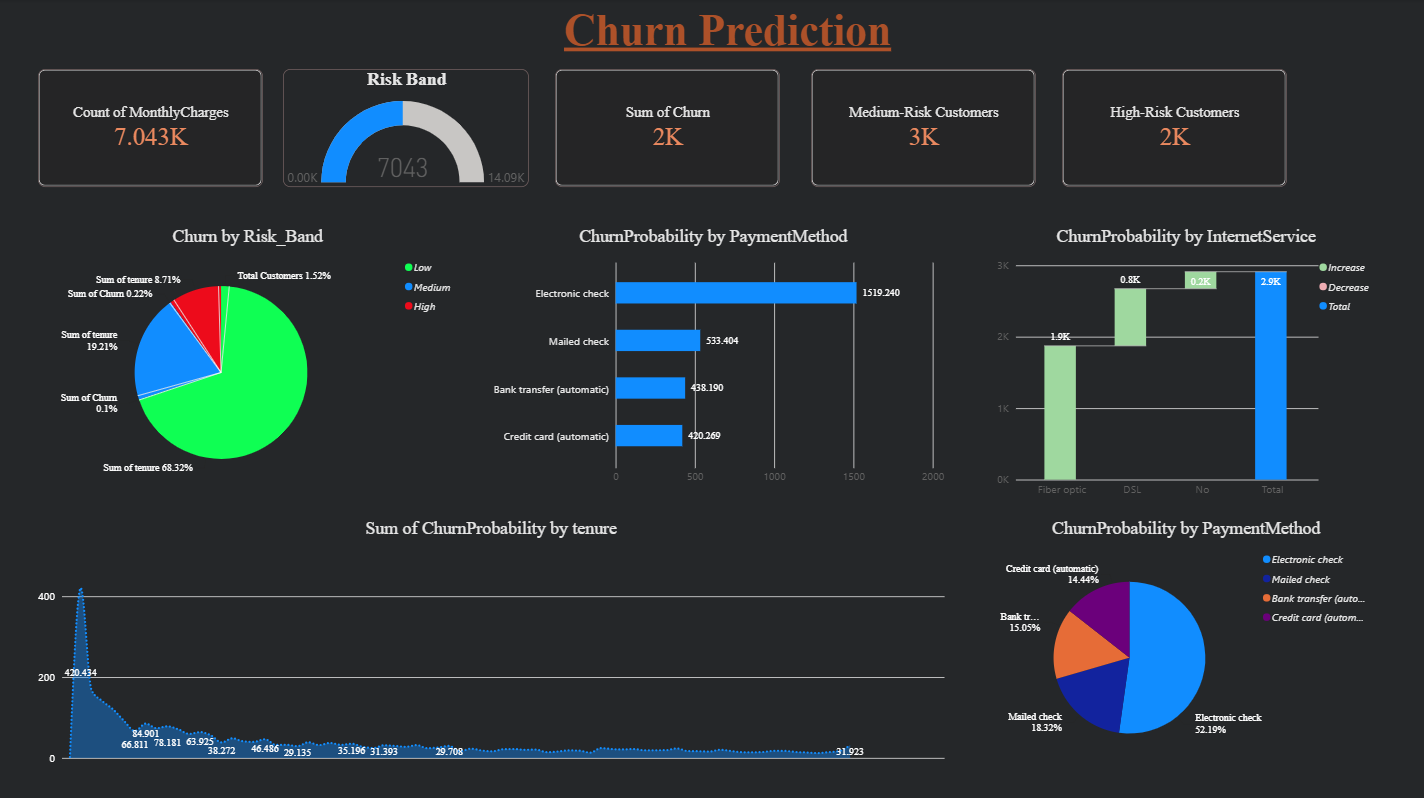

Layout of this report page (visuals, bound fields, positions):
{"tool":"powerbi","page":{"name":"Risk & Prediction","canvas":[1920,1080],"ordinal":3},"visuals":[{"type":"cardVisual","fields":{"Data":["CountNonNull(Telco_Churn.MonthlyCharges)"]},"box":[52.4,94.9,303,158.9],"z":0},{"type":"textbox","box":[760.4,9.9,991.2,66.5],"z":1000},{"type":"gauge","title":" Risk Band","fields":{"Y":["CountNonNull(Customer_Risk.Risk Band)"]},"box":[382.3,94.9,331.3,158.6],"z":2000},{"type":"cardVisual","fields":{"Data":["measure.High-Risk Customers"]},"box":[1431.5,94.9,303,158.9],"z":3000},{"type":"cardVisual","fields":{"Data":["measure.Medium-Risk Customers"]},"box":[1093.1,94.9,303,158.9],"z":4000},{"type":"cardVisual","fields":{"Data":["Sum(Telco_Churn.Churn)"]},"box":[749,94.9,303,158.9],"z":5000},{"type":"pieChart","title":"Churn by Risk_Band","fields":{"Category":["Customer_Risk.Risk Band"],"Y":["measure.Total Customers","Sum(Customer_Risk.tenure)","Sum(Customer_Risk.Churn)"]},"box":[52.4,305.8,565,352.6],"z":6000},{"type":"clusteredBarChart","title":"ChurnProbability by PaymentMethod","fields":{"Category":["Customer_Risk.PaymentMethod"],"Y":["Sum(Customer_Risk.ChurnProbability)"]},"box":[649.9,305.8,623,352.6],"z":7000},{"type":"stackedAreaChart","fields":{"Category":["Customer_Risk.tenure"],"Y":["Sum(Customer_Risk.ChurnProbability)"]},"box":[52.4,699.5,1220.5,334.2],"z":8000},{"type":"waterfallChart","title":"ChurnProbability by InternetService","fields":{"Category":["Telco_Churn.InternetService"],"Y":["Sum(Customer_Risk.ChurnProbability)"]},"box":[1343.7,305.8,509.7,369.6],"z":9000},{"type":"pieChart","title":"ChurnProbability by PaymentMethod","fields":{"Category":["Customer_Risk.PaymentMethod"],"Y":["Sum(Customer_Risk.ChurnProbability)"]},"box":[1343.7,699.5,509.7,334.2],"z":9001}]}

Visuals, with their boxes in screenshot pixels (x1, y1, x2, y2), scaled from the page's 1920x1080 canvas onto the 1424x798 screenshot:
cardVisual - CountNonNull(Telco_Churn.MonthlyCharges): x1=39, y1=70, x2=264, y2=188
textbox: x1=564, y1=7, x2=1299, y2=56
" Risk Band" gauge: x1=284, y1=70, x2=529, y2=187
cardVisual - measure.High-Risk Customers: x1=1062, y1=70, x2=1286, y2=188
cardVisual - measure.Medium-Risk Customers: x1=811, y1=70, x2=1035, y2=188
cardVisual - Sum(Telco_Churn.Churn): x1=556, y1=70, x2=780, y2=188
"Churn by Risk_Band" pieChart: x1=39, y1=226, x2=458, y2=486
"ChurnProbability by PaymentMethod" clusteredBarChart: x1=482, y1=226, x2=944, y2=486
stackedAreaChart - Customer_Risk.tenure x Sum(Customer_Risk.ChurnProbability): x1=39, y1=517, x2=944, y2=764
"ChurnProbability by InternetService" waterfallChart: x1=997, y1=226, x2=1375, y2=499
"ChurnProbability by PaymentMethod" pieChart: x1=997, y1=517, x2=1375, y2=764
